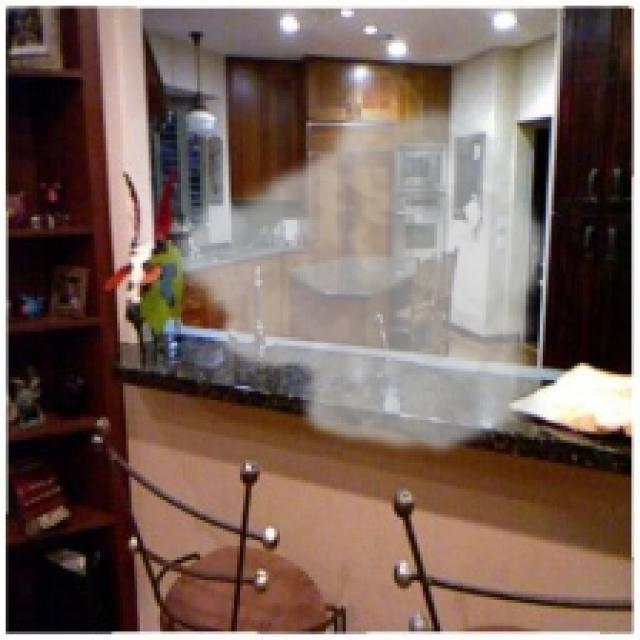Smoke: (162, 94, 554, 460)
